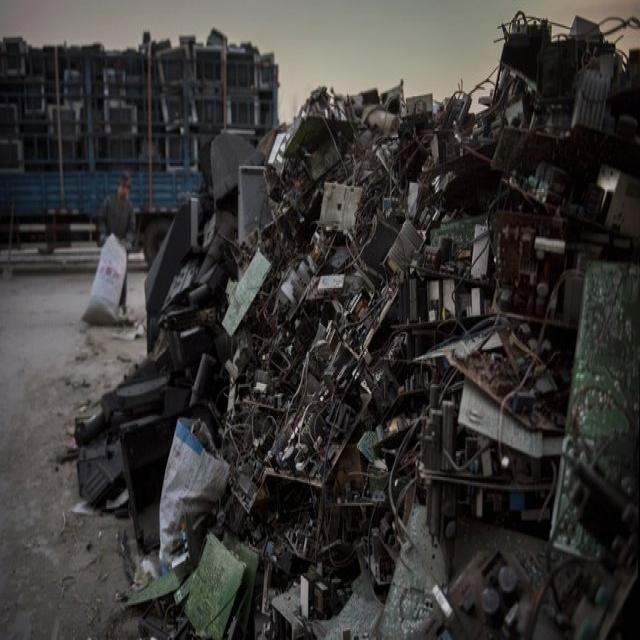hazard: (0, 15, 640, 619)
